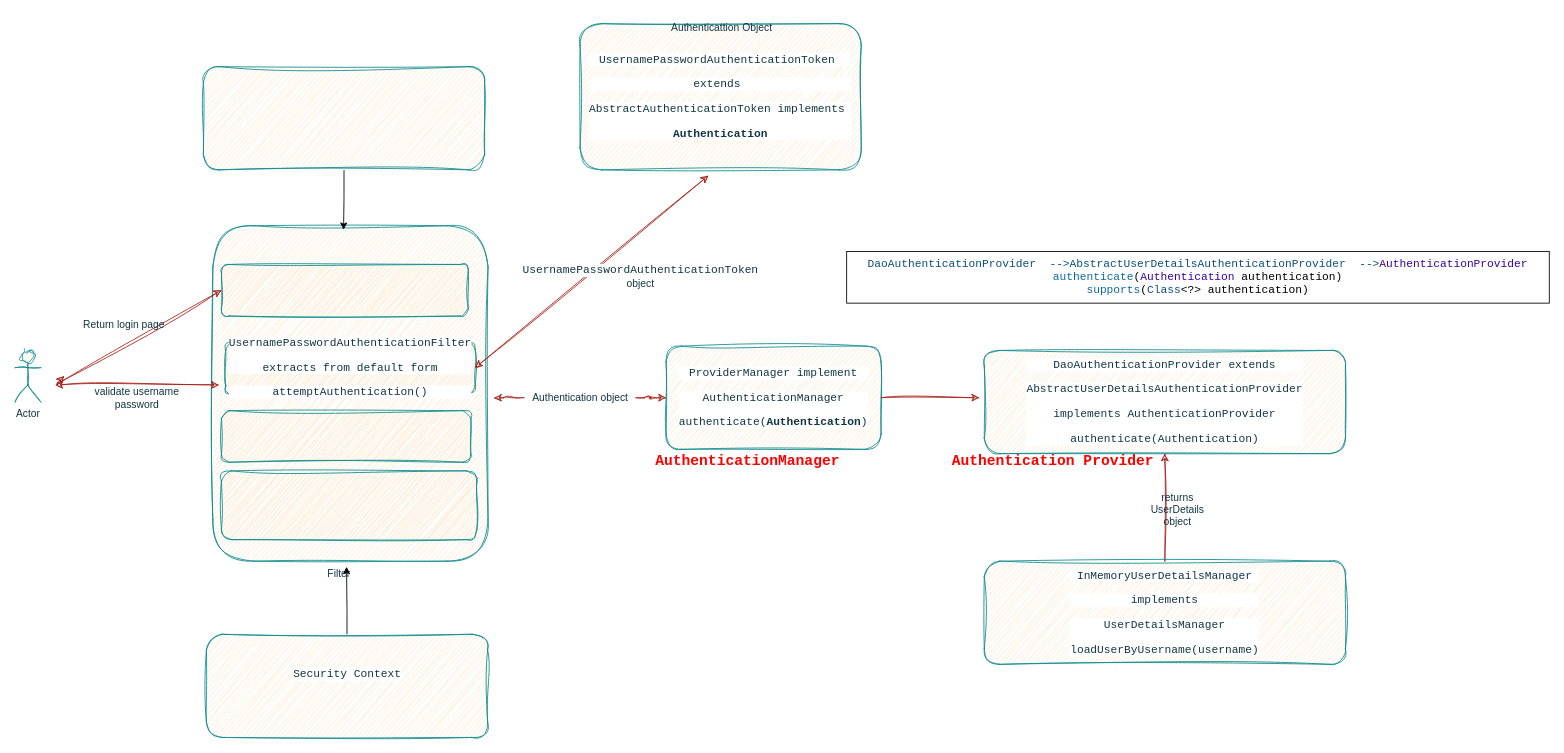
The diagram is 1564 pixels wide and 753 high, and some of its shapes have lost their labels. Here are the shapes that lost their labels. From the top down, the centre of each, then its label:
At point (344, 118): "Authentication".
At point (344, 290): "DefaultLoginPageGeneratingFilter generateLoginPageHtml()".
At point (346, 436): "BasicAuthenticationFilter extracts creds from header".
At point (349, 505): "AbstractSecurityInterceptor authenticateIfRequired() Authentication".
